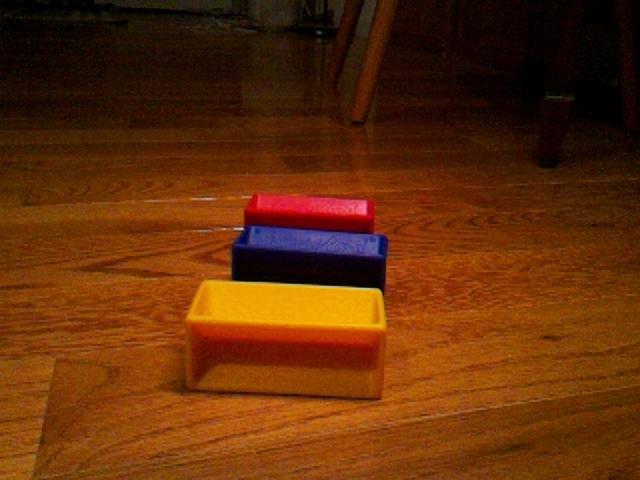blue: (230, 223, 390, 293)
red: (243, 191, 376, 234)
yellow: (184, 278, 388, 401)
